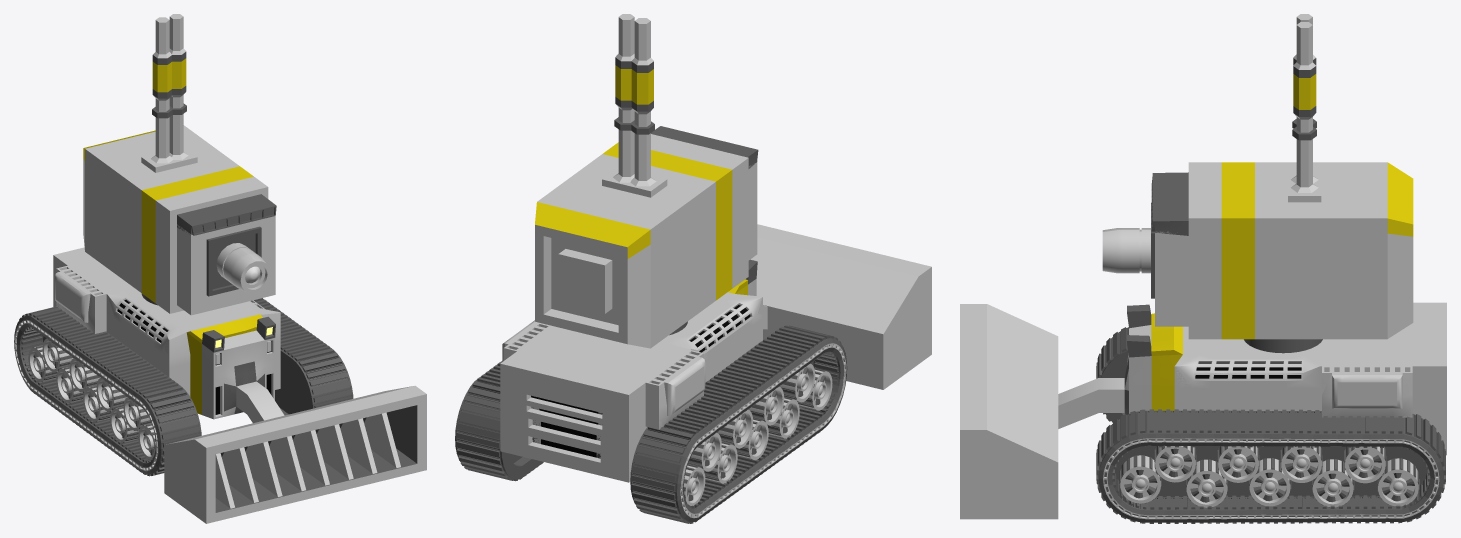
File: snowgraber.fbx
The picture shows the model from 3 angles, left to right: view 1: azimuth 30°, elevation 25°; view 2: azimuth 150°, elevation 25°; view 3: azimuth 270°, elevation 25°; orthographic projection. The views are drawn at different scales.
Visible parts, largest first — view 1: snowgraber; view 2: snowgraber; view 3: snowgraber.
Part boxes in pixels (box(x1,y1,x2,y2)): snowgraber: box(14, 14, 426, 523); snowgraber: box(455, 14, 931, 523); snowgraber: box(960, 14, 1446, 523).
Bounding box in the file's own units: 607 × 1007 × 990.
